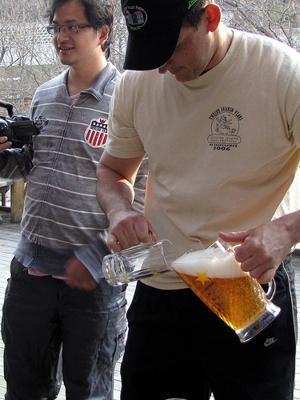person: (97, 3, 300, 398)
